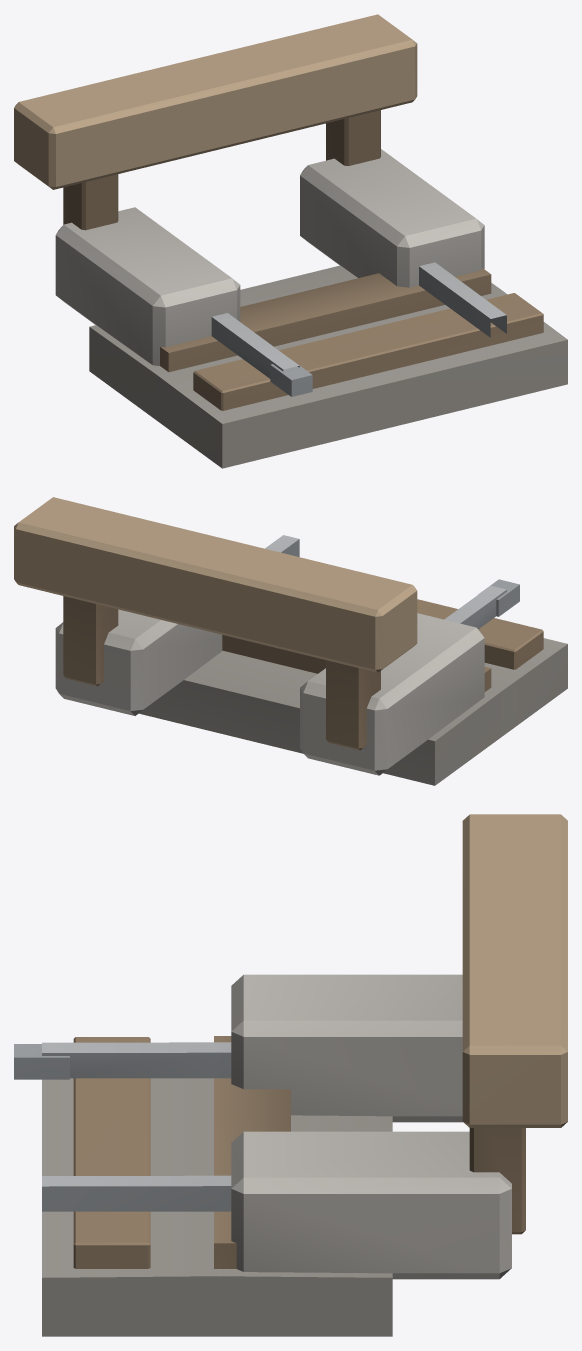
Rendered from rail_end.glb.
3 views of the same model, one above another, from view 1: azimuth 30°, elevation 25°; view 2: azimuth 150°, elevation 25°; view 3: azimuth 270°, elevation 25° (orthographic). The views are drawn at different scales.
Parts seen in each view (by area): view 1: geometry_rail_end; view 2: geometry_rail_end; view 3: geometry_rail_end.
Boxes of the visible parts, left/top/right/bottom form: geometry_rail_end: left=14, top=14, right=567, bottom=468; geometry_rail_end: left=14, top=497, right=567, bottom=785; geometry_rail_end: left=14, top=814, right=567, bottom=1336.
Bounding box in the file's own units: 1.6 × 0.93 × 1.58.
